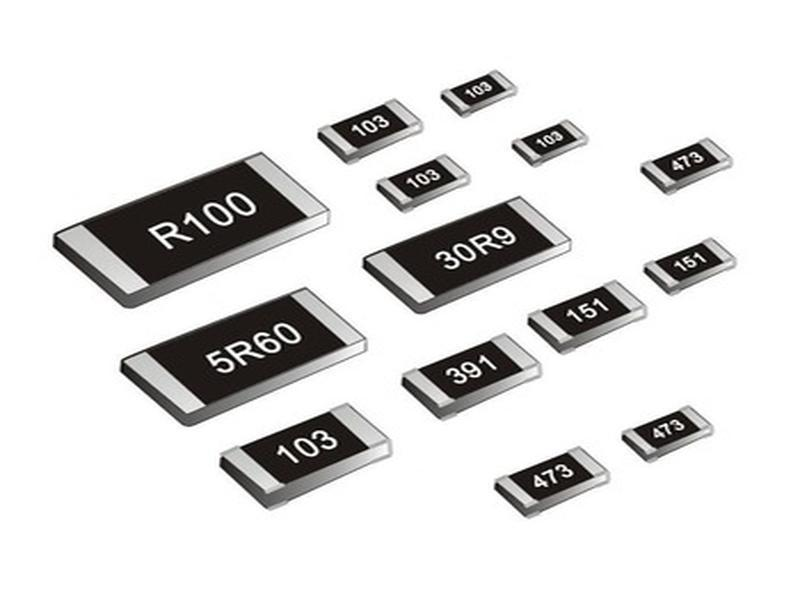SMD resistor: (52, 148, 344, 298), (366, 196, 585, 314)
